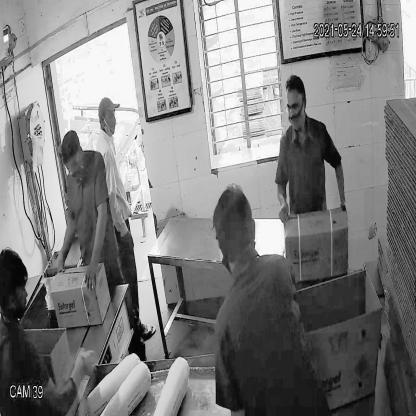goggles: (283, 97, 306, 116)
